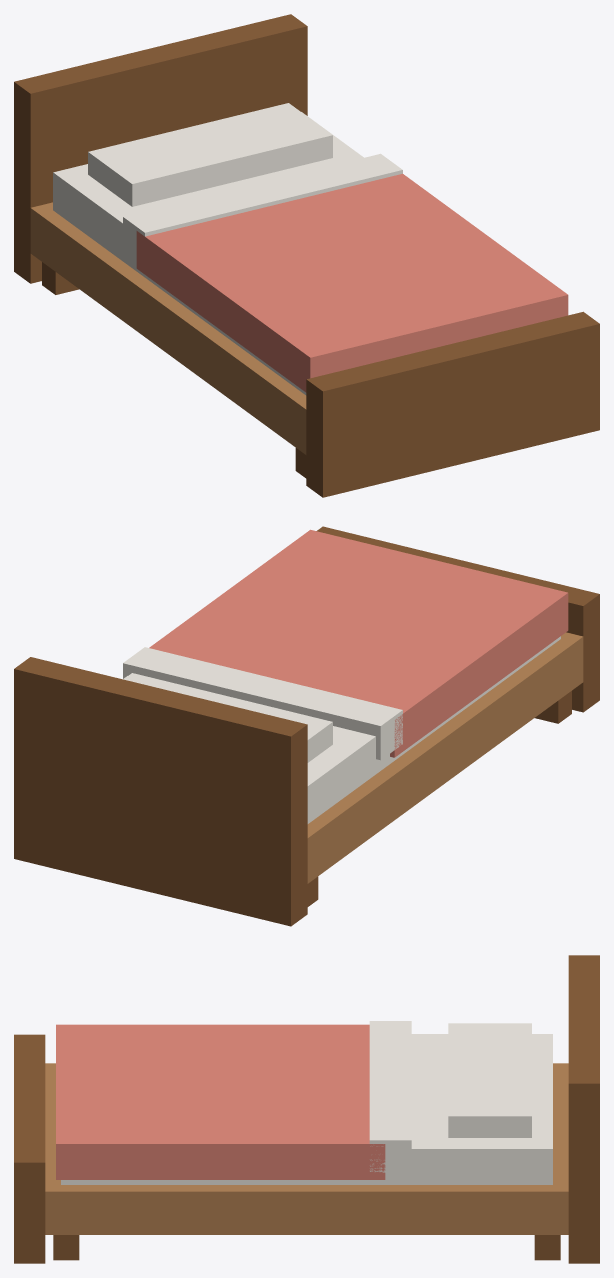
The model's file is bedSingle.glb.
3 views of the same model, one above another, from view 1: azimuth 30°, elevation 25°; view 2: azimuth 150°, elevation 25°; view 3: azimuth 270°, elevation 25° (orthographic). The views are drawn at different scales.
Visible parts, largest first — view 1: bedSingle; view 2: bedSingle; view 3: bedSingle.
Part boxes in pixels (x1,y1,x2,y2): bedSingle: (14,14,599,497); bedSingle: (14,526,599,926); bedSingle: (14,955,599,1263).
Bounding box in the file's own units: 0.58 × 0.38 × 1.12.
Materials: 1 (1 with a texture image).
